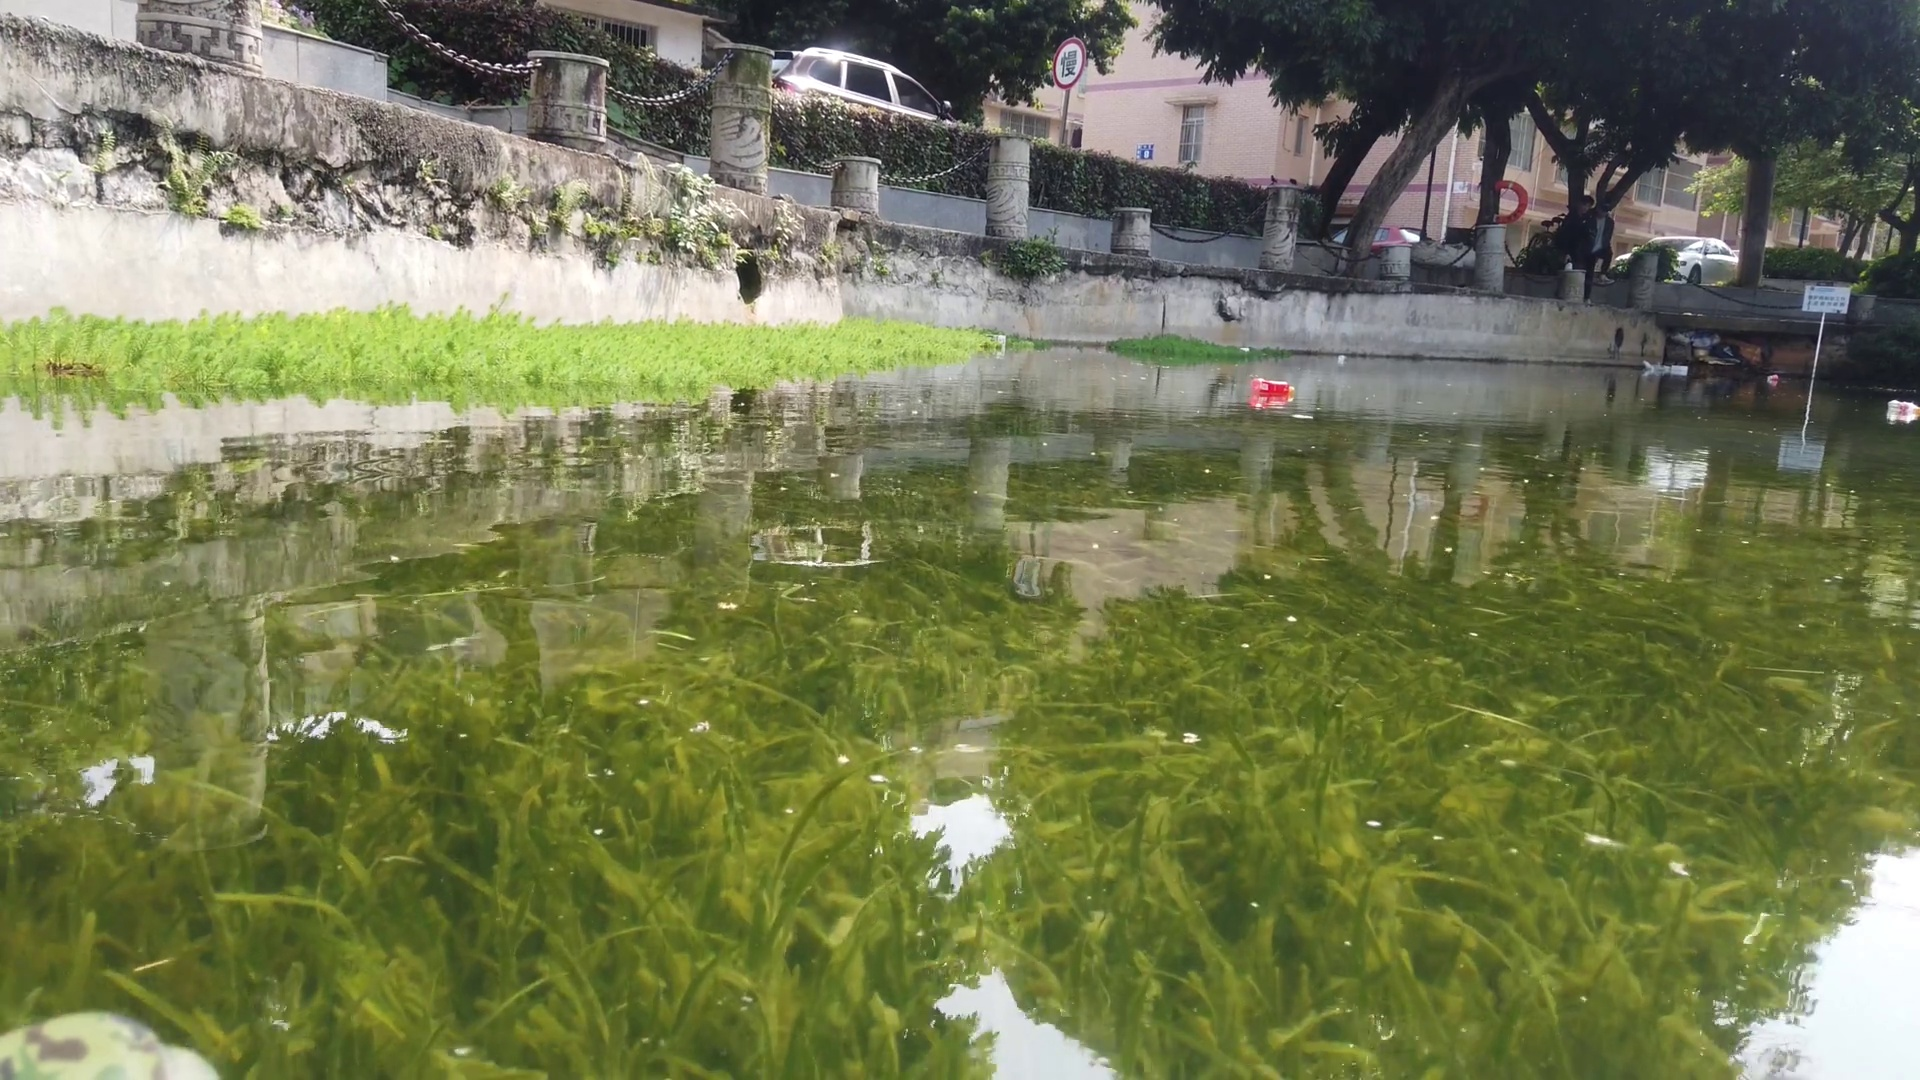bottle: (1250, 378, 1296, 397), (1884, 398, 1920, 415), (1764, 371, 1782, 382)
carton: (988, 334, 1007, 352), (1668, 360, 1691, 373), (1336, 353, 1349, 364)
plastic: (1642, 357, 1664, 369)
